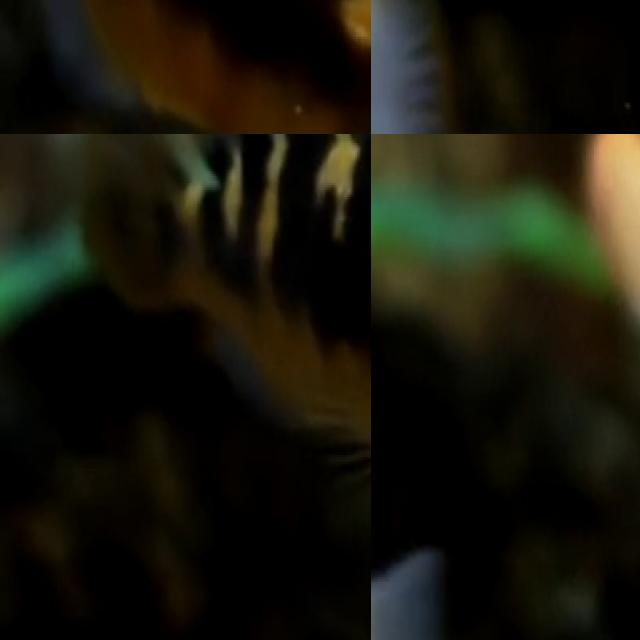fish: (69, 134, 371, 534), (0, 0, 371, 134), (371, 345, 453, 640)
